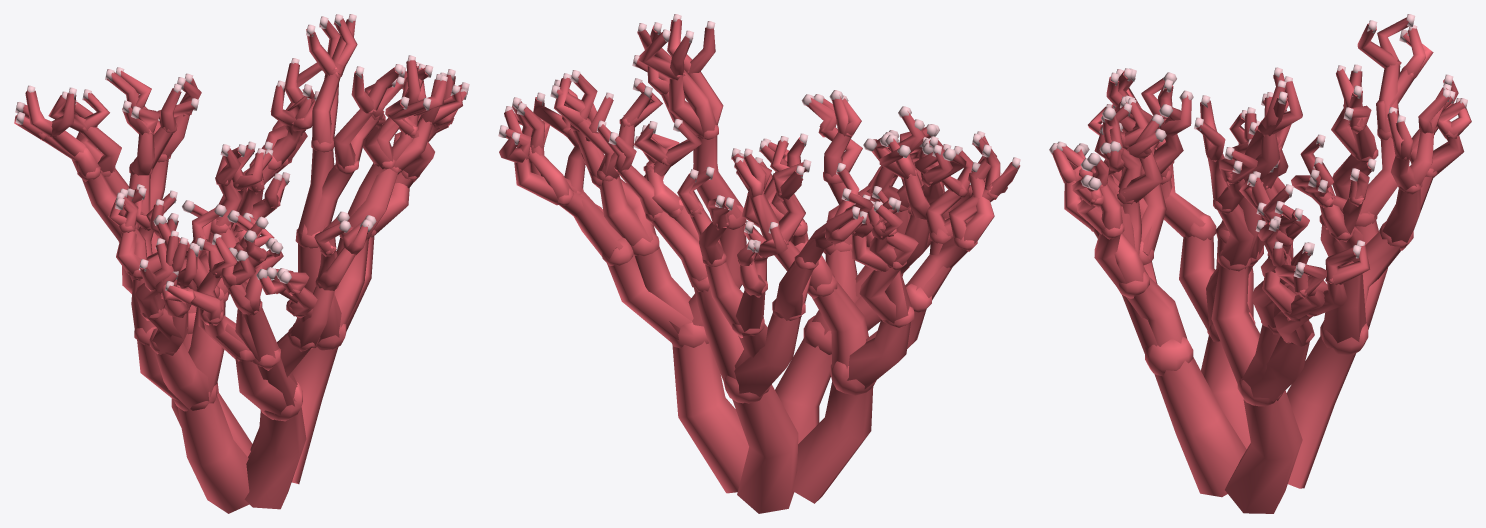
File: coral_staghorn.glb
The picture shows the model from 3 angles, left to right: view 1: azimuth 30°, elevation 25°; view 2: azimuth 150°, elevation 25°; view 3: azimuth 270°, elevation 25°; orthographic projection. The views are drawn at different scales.
Visible parts, largest first — view 1: coral_staghorn_mesh; view 2: coral_staghorn_mesh; view 3: coral_staghorn_mesh.
Boxes of the visible parts, x1,y1,x2,y2 form: coral_staghorn_mesh: (14, 14, 469, 513); coral_staghorn_mesh: (498, 14, 1020, 513); coral_staghorn_mesh: (1049, 14, 1471, 513).
Size of the model in its own units: 1.19 by 1.22 by 1.
